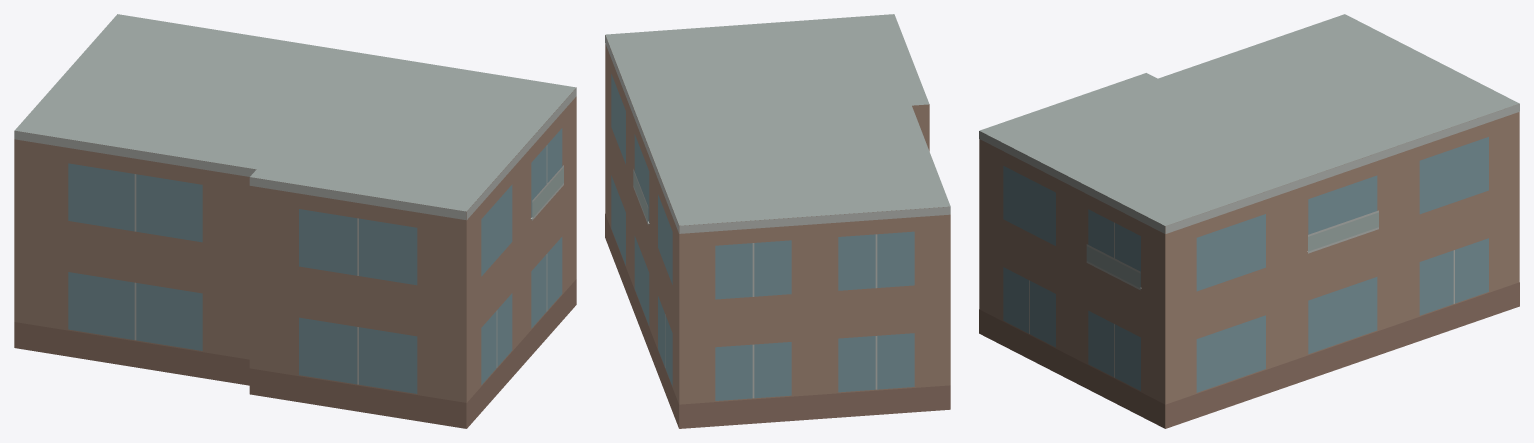
The model's file is survey-upis-32828582.glb.
3 renders of one model, left to right at view 1: azimuth 30°, elevation 25°; view 2: azimuth 150°, elevation 25°; view 3: azimuth 270°, elevation 25°, orthographic. The views are drawn at different scales.
Visible parts, largest first — view 1: survey-upis-32828582.tmp; view 2: survey-upis-32828582.tmp; view 3: survey-upis-32828582.tmp.
Part boxes in pixels (x1,y1,x2,y2): survey-upis-32828582.tmp: (14,14,576,428); survey-upis-32828582.tmp: (605,14,950,428); survey-upis-32828582.tmp: (979,14,1519,428).
Bounding box in the file's own units: 13.7 × 6.1 × 14.75.
